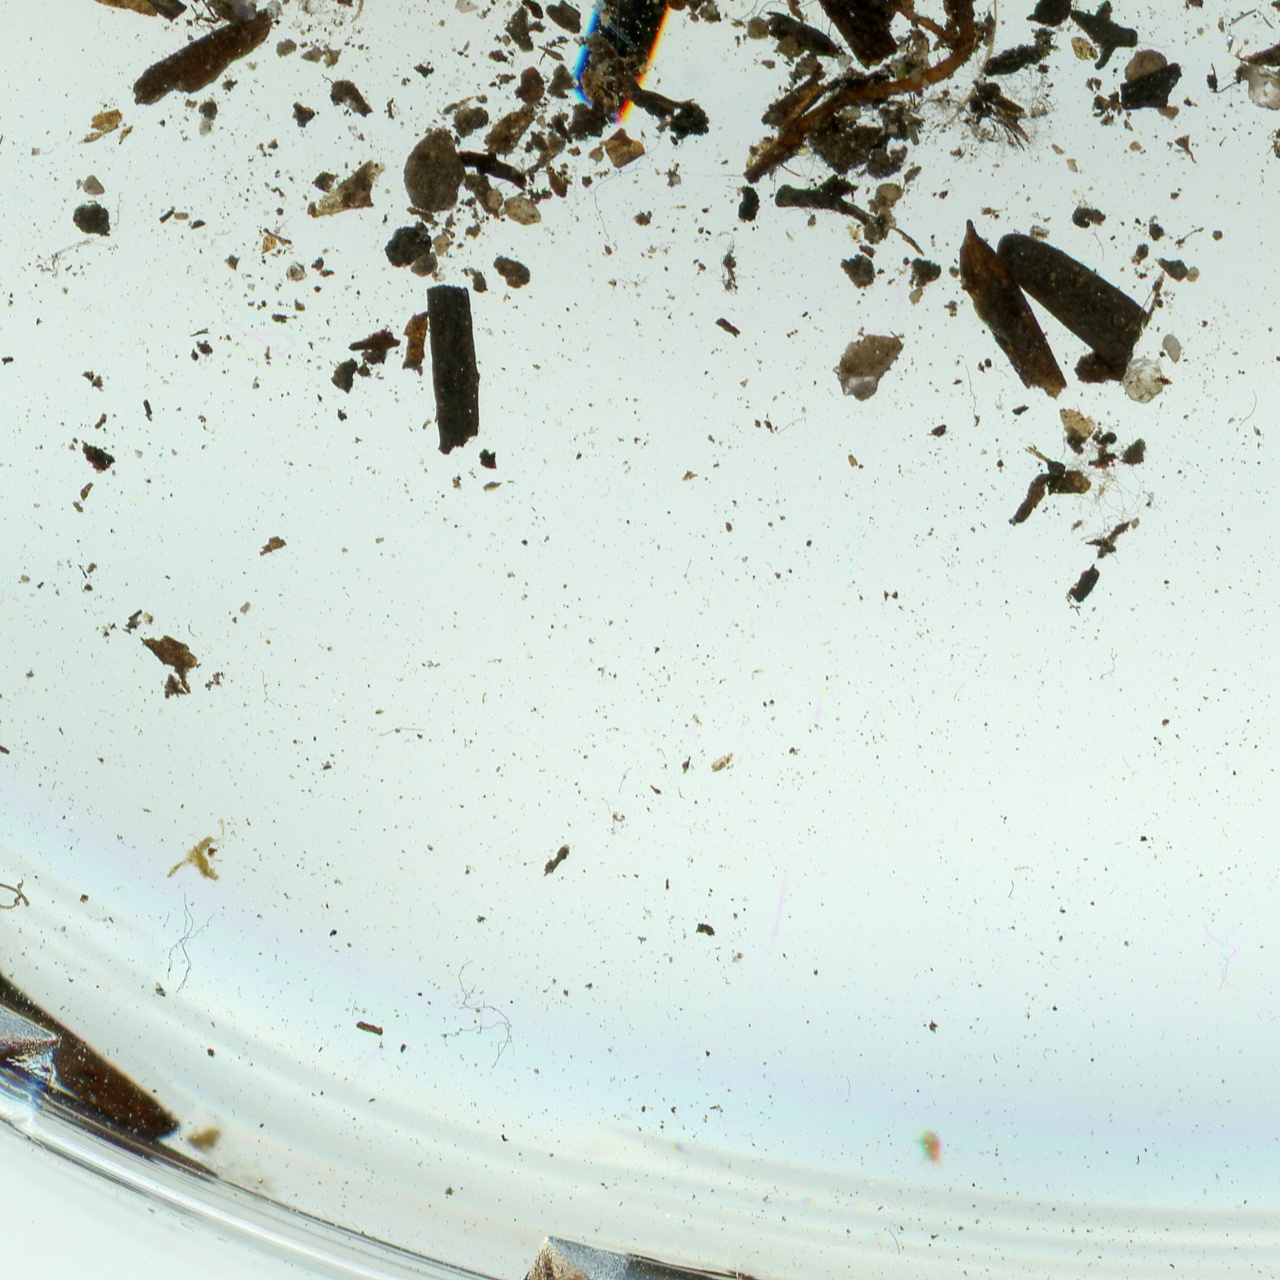arthropod: (913, 1128, 947, 1171)
